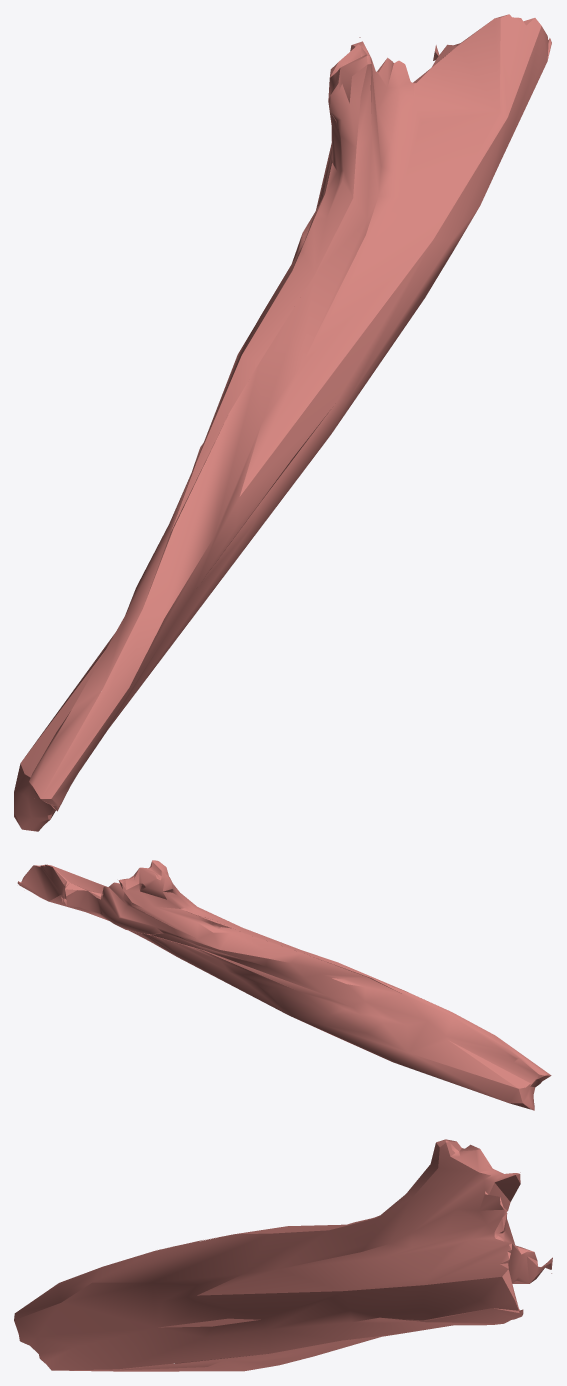
File: fma46110_fj189.glb
3 views of the same model, one above another, from view 1: azimuth 30°, elevation 25°; view 2: azimuth 150°, elevation 25°; view 3: azimuth 270°, elevation 25° (orthographic). The views are drawn at different scales.
Visible parts, largest first — view 1: FMA46110_FJ189; view 2: FMA46110_FJ189; view 3: FMA46110_FJ189.
Part boxes in pixels (bbox=[...]): FMA46110_FJ189: bbox=[14, 14, 551, 831]; FMA46110_FJ189: bbox=[17, 860, 551, 1110]; FMA46110_FJ189: bbox=[14, 1139, 552, 1371].
Bounding box in the file's own units: 0.0452 × 0.0275 × 0.0279.
